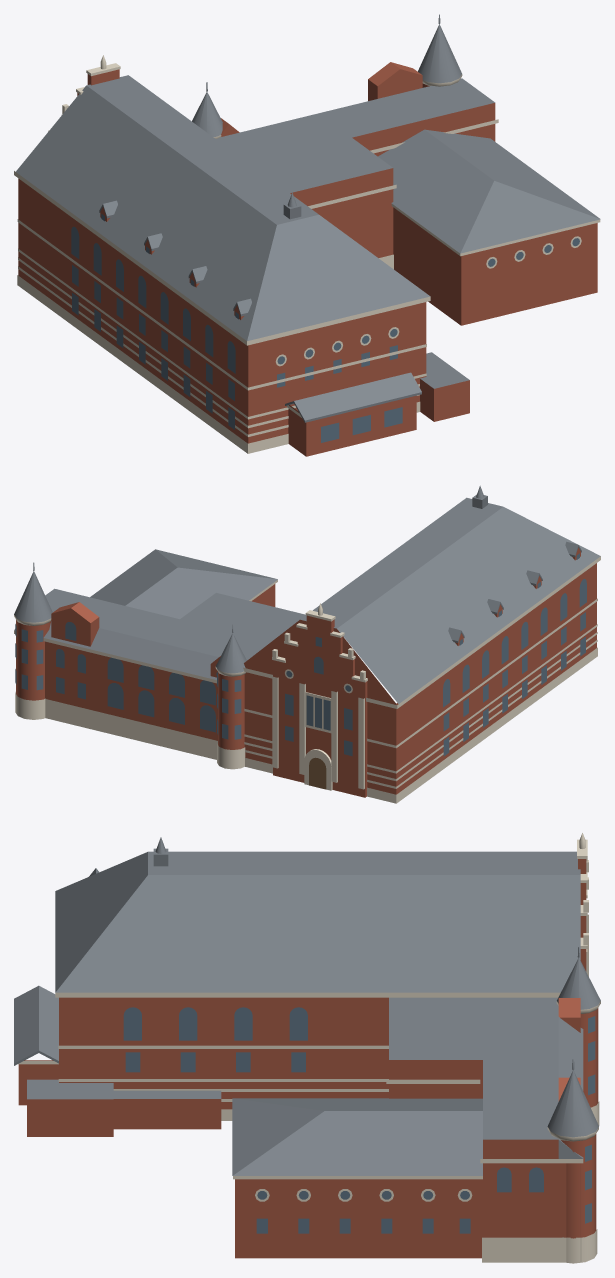
Rendered from indy-athenaeum.glb.
3 views of the same model, one above another, from view 1: azimuth 30°, elevation 25°; view 2: azimuth 150°, elevation 25°; view 3: azimuth 270°, elevation 25° (orthographic). The views are drawn at different scales.
Visible parts, largest first — view 1: The Athenaeum; view 2: The Athenaeum; view 3: The Athenaeum.
Boxes of the visible parts, x1,y1,x2,y2 form: The Athenaeum: [14, 14, 600, 456]; The Athenaeum: [14, 485, 600, 803]; The Athenaeum: [14, 833, 600, 1263].
Size of the model in its own units: 62.6 by 28.4 by 63.7.
